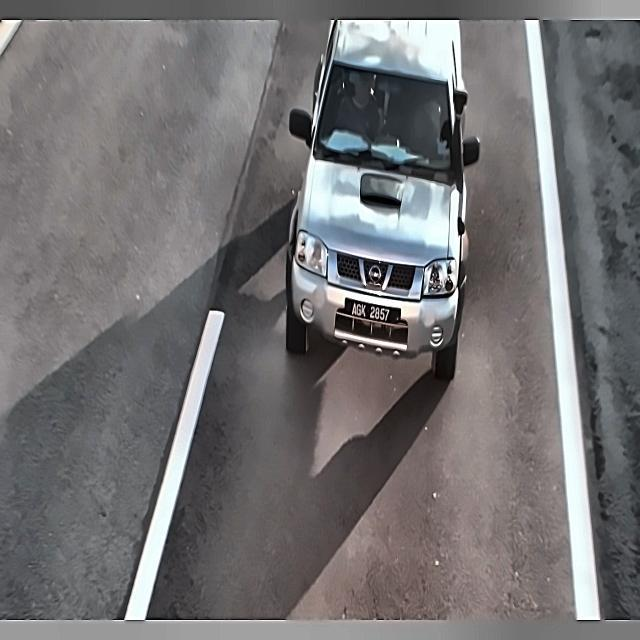car: (340, 292, 406, 331)
